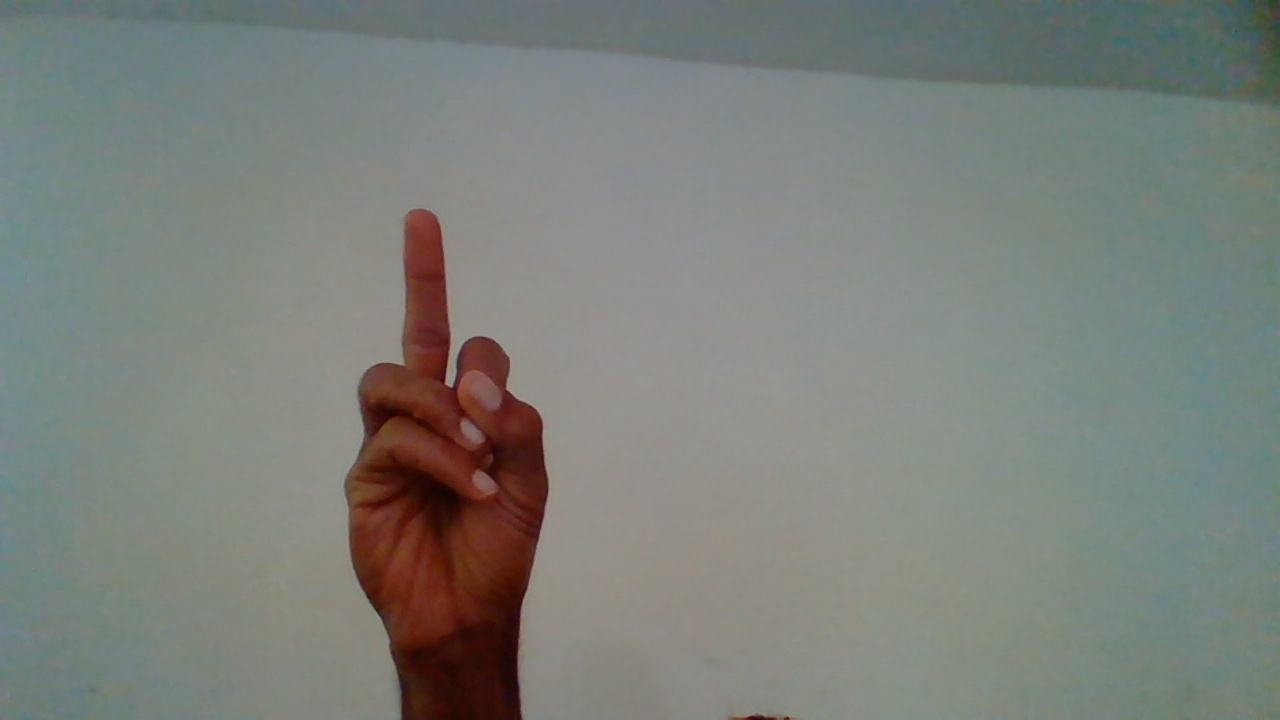he: (335, 203, 575, 711)
